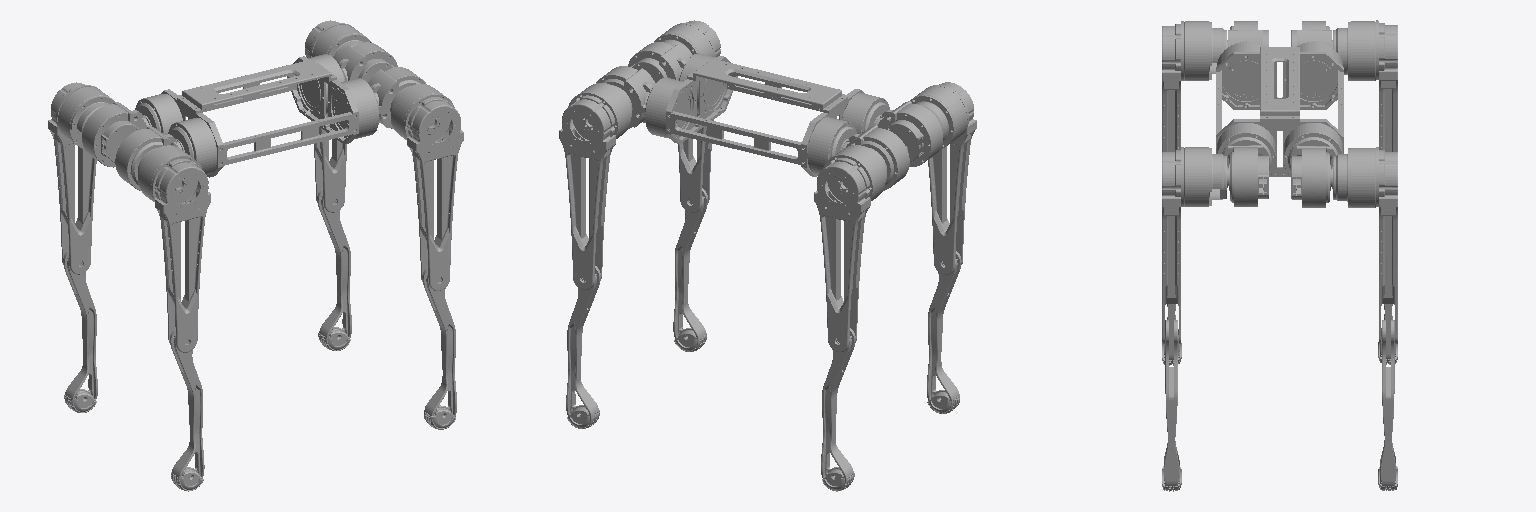
robot.urdf — k3lso_robot:
<?xml version="1.0" ?>
<!-- =================================================================================== -->
<!-- |    This document was autogenerated by xacro from [local-path]/catkin_ws/src/k3lso_robot_description/urdf/k3lso_robot.xacro | -->
<!-- |    EDITING THIS FILE BY HAND IS NOT RECOMMENDED                                 | -->
<!-- =================================================================================== -->
<robot name="k3lso_robot">
  <material name="silver_default">
    <color rgba="0.700 0.700 0.700 1.000"/>
  </material>
  <link name="base_link">
    <inertial>
      <origin rpy="0 0 0" xyz="3.934834505213609e-07 -1.3850611732515126e-07 0.001912983578096638"/>
      <mass value="4.385758280163802"/>
      <inertia ixx="0.020299" ixy="0.0" ixz="-0.0" iyy="0.102942" iyz="0.0" izz="0.116746"/>
    </inertial>
    <visual>
      <origin rpy="0 0 0" xyz="0 0 0"/>
      <geometry>
        <mesh filename="k3lso/base_link.stl" scale="0.001 0.001 0.001"/>
      </geometry>
      <material name="silver_default"/>
    </visual>
    <collision>
      <origin rpy="0 0 0" xyz="0 0 0"/>
      <geometry>
        <mesh filename="k3lso/base_link.stl" scale="0.001 0.001 0.001"/>
      </geometry>
    </collision>
  </link>
  <link name="abduct_fr_1">
    <inertial>
      <origin rpy="0 0 0" xyz="0.05307764856594424 -0.0012595709556703638 0.00018956305199143559"/>
      <mass value="1.0694932881809627"/>
      <inertia ixx="0.000853" ixy="1.1e-05" ixz="1.3e-05" iyy="0.001356" iyz="-1e-06" izz="0.001003"/>
    </inertial>
    <visual>
      <origin rpy="0 0 0" xyz="-0.1845 0.055 0.000895"/>
      <geometry>
        <mesh filename="k3lso/abduct_fr_1.stl" scale="0.001 0.001 0.001"/>
      </geometry>
      <material name="silver_default"/>
    </visual>
    <collision>
      <origin rpy="0 0 0" xyz="-0.1845 0.055 0.000895"/>
      <geometry>
        <mesh filename="k3lso/abduct_fr_1.stl" scale="0.001 0.001 0.001"/>
      </geometry>
    </collision>
  </link>
  <link name="thigh_hr_1">
    <inertial>
      <origin rpy="0 0 0" xyz="-0.0003218004337777469 -0.0596884157685139 -0.030289757148956896"/>
      <mass value="1.4760734131442261"/>
      <inertia ixx="0.008903" ixy="1.8e-05" ixz="-1.2e-05" iyy="0.008754" iyz="-0.001399" izz="0.001753"/>
    </inertial>
    <visual>
      <origin rpy="0 0 0" xyz="-0.24242 0.086937 0.001261"/>
      <geometry>
        <mesh filename="k3lso/thigh_hr_1.stl" scale="0.001 0.001 0.001"/>
      </geometry>
      <material name="silver_default"/>
    </visual>
    <collision>
      <origin rpy="0 0 0" xyz="-0.24242 0.086937 0.001261"/>
      <geometry>
        <mesh filename="k3lso/thigh_hr_1.stl" scale="0.001 0.001 0.001"/>
      </geometry>
    </collision>
  </link>
  <link name="shank_hl_1">
    <inertial>
      <origin rpy="0 0 0" xyz="0.014148114505737414 0.011199912515711286 -0.12186579885685311"/>
      <mass value="0.21899444921238967"/>
      <inertia ixx="0.0016" ixy="0.0" ixz="0.000106" iyy="0.001633" iyz="0.0" izz="4.8e-05"/>
    </inertial>
    <visual>
      <origin rpy="0 0 0" xyz="-0.242534 0.188457 0.281146"/>
      <geometry>
        <mesh filename="k3lso/shank_hl_1.stl" scale="0.001 0.001 0.001"/>
      </geometry>
      <material name="silver_default"/>
    </visual>
    <collision>
      <origin rpy="0 0 0" xyz="-0.242534 0.188457 0.281146"/>
      <geometry>
        <mesh filename="k3lso/shank_hl_1.stl" scale="0.001 0.001 0.001"/>
      </geometry>
    </collision>
  </link>
  <link name="toe_hr_1">
    <inertial>
      <origin rpy="0 0 0" xyz="0.00458667149031633 -0.006500081766649929 0.010312470108147176"/>
      <mass value="0.03759501582149149"/>
      <inertia ixx="6e-06" ixy="0.0" ixz="1e-06" iyy="9e-06" iyz="0.0" izz="9e-06"/>
    </inertial>
    <visual>
      <origin rpy="0 0 0" xyz="-0.244786 0.170757 0.553397"/>
      <geometry>
        <mesh filename="k3lso/toe_hr_1.stl" scale="0.001 0.001 0.001"/>
      </geometry>
      <material name="silver_default"/>
    </visual>
    <collision>
      <origin rpy="0 0 0" xyz="-0.244786 0.170757 0.553397"/>
      <geometry>
        <mesh filename="k3lso/toe_hr_1.stl" scale="0.001 0.001 0.001"/>
      </geometry>
    </collision>
  </link>
  <link name="abduct_fl_1">
    <inertial>
      <origin rpy="0 0 0" xyz="0.05307764856594377 0.0012595709556728688 0.00018956305199150942"/>
      <mass value="1.0694932881809633"/>
      <inertia ixx="0.000853" ixy="-1.1e-05" ixz="1.3e-05" iyy="0.001356" iyz="1e-06" izz="0.001003"/>
    </inertial>
    <visual>
      <origin rpy="0 0 0" xyz="-0.1873 -0.055 0.000895"/>
      <geometry>
        <mesh filename="k3lso/abduct_fl_1.stl" scale="0.001 0.001 0.001"/>
      </geometry>
      <material name="silver_default"/>
    </visual>
    <collision>
      <origin rpy="0 0 0" xyz="-0.1873 -0.055 0.000895"/>
      <geometry>
        <mesh filename="k3lso/abduct_fl_1.stl" scale="0.001 0.001 0.001"/>
      </geometry>
    </collision>
  </link>
  <link name="thigh_hl_1">
    <inertial>
      <origin rpy="0 0 0" xyz="7.97981564236161e-05 0.05967684766881097 -0.029981675456800486"/>
      <mass value="1.4747243572805535"/>
      <inertia ixx="0.00885" ixy="3e-05" ixz="-3e-05" iyy="0.008752" iyz="0.001383" izz="0.001804"/>
    </inertial>
    <visual>
      <origin rpy="0 0 0" xyz="-0.24522 -0.086937 0.001261"/>
      <geometry>
        <mesh filename="k3lso/thigh_hl_1.stl" scale="0.001 0.001 0.001"/>
      </geometry>
      <material name="silver_default"/>
    </visual>
    <collision>
      <origin rpy="0 0 0" xyz="-0.24522 -0.086937 0.001261"/>
      <geometry>
        <mesh filename="k3lso/thigh_hl_1.stl" scale="0.001 0.001 0.001"/>
      </geometry>
    </collision>
  </link>
  <link name="shank_hl_2">
    <inertial>
      <origin rpy="0 0 0" xyz="0.014148091219917308 -0.011199912722097666 -0.12186580739310493"/>
      <mass value="0.21899444921238967"/>
      <inertia ixx="0.0016" ixy="0.0" ixz="0.000106" iyy="0.001633" iyz="0.0" izz="4.8e-05"/>
    </inertial>
    <visual>
      <origin rpy="0 0 0" xyz="-0.244306 -0.188457 0.280011"/>
      <geometry>
        <mesh filename="k3lso/shank_hl_2.stl" scale="0.001 0.001 0.001"/>
      </geometry>
      <material name="silver_default"/>
    </visual>
    <collision>
      <origin rpy="0 0 0" xyz="-0.244306 -0.188457 0.280011"/>
      <geometry>
        <mesh filename="k3lso/shank_hl_2.stl" scale="0.001 0.001 0.001"/>
      </geometry>
    </collision>
  </link>
  <link name="toe_hr_2">
    <inertial>
      <origin rpy="0 0 0" xyz="0.004586648204496224 0.006500092995548129 0.01031246157189547"/>
      <mass value="0.03759501582149149"/>
      <inertia ixx="6e-06" ixy="0.0" ixz="1e-06" iyy="9e-06" iyz="0.0" izz="9e-06"/>
    </inertial>
    <visual>
      <origin rpy="0 0 0" xyz="-0.246558 -0.170757 0.552262"/>
      <geometry>
        <mesh filename="k3lso/toe_hr_2.stl" scale="0.001 0.001 0.001"/>
      </geometry>
      <material name="silver_default"/>
    </visual>
    <collision>
      <origin rpy="0 0 0" xyz="-0.246558 -0.170757 0.552262"/>
      <geometry>
        <mesh filename="k3lso/toe_hr_2.stl" scale="0.001 0.001 0.001"/>
      </geometry>
    </collision>
  </link>
  <link name="abduct_hr_1">
    <inertial>
      <origin rpy="0 0 0" xyz="-0.05307764856594402 -0.0012595709556719806 0.00018956305199565194"/>
      <mass value="1.0694932881809633"/>
      <inertia ixx="0.000853" ixy="-1.1e-05" ixz="-1.3e-05" iyy="0.001356" iyz="-1e-06" izz="0.001003"/>
    </inertial>
    <visual>
      <origin rpy="0 0 0" xyz="0.1873 0.055 0.000895"/>
      <geometry>
        <mesh filename="k3lso/abduct_hr_1.stl" scale="0.001 0.001 0.001"/>
      </geometry>
      <material name="silver_default"/>
    </visual>
    <collision>
      <origin rpy="0 0 0" xyz="0.1873 0.055 0.000895"/>
      <geometry>
        <mesh filename="k3lso/abduct_hr_1.stl" scale="0.001 0.001 0.001"/>
      </geometry>
    </collision>
  </link>
  <link name="thigh_hr_2">
    <inertial>
      <origin rpy="0 0 0" xyz="-0.0003216465512944078 -0.05968841576851537 -0.030289757148952635"/>
      <mass value="1.4760734131442261"/>
      <inertia ixx="0.008903" ixy="1.8e-05" ixz="-1.2e-05" iyy="0.008754" iyz="-0.001399" izz="0.001753"/>
    </inertial>
    <visual>
      <origin rpy="0 0 0" xyz="0.24522 0.086937 0.001261"/>
      <geometry>
        <mesh filename="k3lso/thigh_hr_2.stl" scale="0.001 0.001 0.001"/>
      </geometry>
      <material name="silver_default"/>
    </visual>
    <collision>
      <origin rpy="0 0 0" xyz="0.24522 0.086937 0.001261"/>
      <geometry>
        <mesh filename="k3lso/thigh_hr_2.stl" scale="0.001 0.001 0.001"/>
      </geometry>
    </collision>
  </link>
  <link name="shank_hl_3">
    <inertial>
      <origin rpy="0 0 0" xyz="0.014147268388201378 0.01119991251571023 -0.12186579885684973"/>
      <mass value="0.21899444921238967"/>
      <inertia ixx="0.0016" ixy="0.0" ixz="0.000106" iyy="0.001633" iyz="0.0" izz="4.8e-05"/>
    </inertial>
    <visual>
      <origin rpy="0 0 0" xyz="0.245105 0.188457 0.281146"/>
      <geometry>
        <mesh filename="k3lso/shank_hl_3.stl" scale="0.001 0.001 0.001"/>
      </geometry>
      <material name="silver_default"/>
    </visual>
    <collision>
      <origin rpy="0 0 0" xyz="0.245105 0.188457 0.281146"/>
      <geometry>
        <mesh filename="k3lso/shank_hl_3.stl" scale="0.001 0.001 0.001"/>
      </geometry>
    </collision>
  </link>
  <link name="toe_hr_3">
    <inertial>
      <origin rpy="0 0 0" xyz="0.004586825372773412 -0.006500081766651011 0.010312470108151173"/>
      <mass value="0.03759501582149149"/>
      <inertia ixx="6e-06" ixy="0.0" ixz="1e-06" iyy="9e-06" iyz="0.0" izz="9e-06"/>
    </inertial>
    <visual>
      <origin rpy="0 0 0" xyz="0.242854 0.170757 0.553397"/>
      <geometry>
        <mesh filename="k3lso/toe_hr_3.stl" scale="0.001 0.001 0.001"/>
      </geometry>
      <material name="silver_default"/>
    </visual>
    <collision>
      <origin rpy="0 0 0" xyz="0.242854 0.170757 0.553397"/>
      <geometry>
        <mesh filename="k3lso/toe_hr_3.stl" scale="0.001 0.001 0.001"/>
      </geometry>
    </collision>
  </link>
  <link name="abduct_hl_1">
    <inertial>
      <origin rpy="0 0 0" xyz="-0.05307764856594449 0.0012595709556712173 0.00018956305199570355"/>
      <mass value="1.0694932881809625"/>
      <inertia ixx="0.000853" ixy="1.1e-05" ixz="-1.3e-05" iyy="0.001356" iyz="1e-06" izz="0.001003"/>
    </inertial>
    <visual>
      <origin rpy="0 0 0" xyz="0.1873 -0.055 0.000895"/>
      <geometry>
        <mesh filename="k3lso/abduct_hl_1.stl" scale="0.001 0.001 0.001"/>
      </geometry>
      <material name="silver_default"/>
    </visual>
    <collision>
      <origin rpy="0 0 0" xyz="0.1873 -0.055 0.000895"/>
      <geometry>
        <mesh filename="k3lso/abduct_hl_1.stl" scale="0.001 0.001 0.001"/>
      </geometry>
    </collision>
  </link>
  <link name="thigh_hl_2">
    <inertial>
      <origin rpy="0 0 0" xyz="7.995203890673319e-05 0.05967684766880969 -0.029981675456796107"/>
      <mass value="1.4747243572805535"/>
      <inertia ixx="0.00885" ixy="3e-05" ixz="-3e-05" iyy="0.008752" iyz="0.001383" izz="0.001804"/>
    </inertial>
    <visual>
      <origin rpy="0 0 0" xyz="0.24522 -0.086937 0.001261"/>
      <geometry>
        <mesh filename="k3lso/thigh_hl_2.stl" scale="0.001 0.001 0.001"/>
      </geometry>
      <material name="silver_default"/>
    </visual>
    <collision>
      <origin rpy="0 0 0" xyz="0.24522 -0.086937 0.001261"/>
      <geometry>
        <mesh filename="k3lso/thigh_hl_2.stl" scale="0.001 0.001 0.001"/>
      </geometry>
    </collision>
  </link>
  <link name="shank_hl_4">
    <inertial>
      <origin rpy="0 0 0" xyz="0.014147245102381162 -0.011199912722098415 -0.12186580739310016"/>
      <mass value="0.21899444921238967"/>
      <inertia ixx="0.0016" ixy="0.0" ixz="0.000106" iyy="0.001633" iyz="0.0" izz="4.8e-05"/>
    </inertial>
    <visual>
      <origin rpy="0 0 0" xyz="0.246133 -0.188457 0.280011"/>
      <geometry>
        <mesh filename="k3lso/shank_hl_4.stl" scale="0.001 0.001 0.001"/>
      </geometry>
      <material name="silver_default"/>
    </visual>
    <collision>
      <origin rpy="0 0 0" xyz="0.246133 -0.188457 0.280011"/>
      <geometry>
        <mesh filename="k3lso/shank_hl_4.stl" scale="0.001 0.001 0.001"/>
      </geometry>
    </collision>
  </link>
  <link name="toe_hr_4">
    <inertial>
      <origin rpy="0 0 0" xyz="0.00458680208695289 0.006500092995547518 0.010312461571901133"/>
      <mass value="0.03759501582149149"/>
      <inertia ixx="6e-06" ixy="0.0" ixz="1e-06" iyy="9e-06" iyz="0.0" izz="9e-06"/>
    </inertial>
    <visual>
      <origin rpy="0 0 0" xyz="0.243882 -0.170757 0.552262"/>
      <geometry>
        <mesh filename="k3lso/toe_hr_4.stl" scale="0.001 0.001 0.001"/>
      </geometry>
      <material name="silver_default"/>
    </visual>
    <collision>
      <origin rpy="0 0 0" xyz="0.243882 -0.170757 0.552262"/>
      <geometry>
        <mesh filename="k3lso/toe_hr_4.stl" scale="0.001 0.001 0.001"/>
      </geometry>
    </collision>
  </link>
  <joint name="torso_to_abduct_fr_j" type="continuous">
    <origin rpy="0 0 0" xyz="0.1845 -0.055 -0.000895"/>
    <parent link="base_link"/>
    <child link="abduct_fr_1"/>
    <axis xyz="1.0 0.0 -0.0"/>
  </joint>
  <joint name="abduct_fr_to_thigh_fr_j" type="continuous">
    <origin rpy="0 0 0" xyz="0.05792 -0.031937 -0.000366"/>
    <parent link="abduct_fr_1"/>
    <child link="thigh_hr_1"/>
    <axis xyz="-0.0 1.0 -0.0"/>
  </joint>
  <joint name="thigh_fr_to_knee_fr_j" type="continuous">
    <origin rpy="0 0 0" xyz="0.000114 -0.10152 -0.279885"/>
    <parent link="thigh_hr_1"/>
    <child link="shank_hl_1"/>
    <axis xyz="-0.0 1.0 0.0"/>
  </joint>
  <joint name="toe_fr_joint" type="fixed">
    <origin rpy="0 0 0" xyz="0.002252 0.0177 -0.272251"/>
    <parent link="shank_hl_1"/>
    <child link="toe_hr_1"/>
  </joint>
  <joint name="torso_to_abduct_fl_j" type="continuous">
    <origin rpy="0 0 0" xyz="0.1873 0.055 -0.000895"/>
    <parent link="base_link"/>
    <child link="abduct_fl_1"/>
    <axis xyz="-1.0 -0.0 0.0"/>
  </joint>
  <joint name="abduct_fl_to_thigh_fl_j" type="continuous">
    <origin rpy="0 0 0" xyz="0.05792 0.031937 -0.000366"/>
    <parent link="abduct_fl_1"/>
    <child link="thigh_hl_1"/>
    <axis xyz="0.0 1.0 0.0"/>
  </joint>
  <joint name="thigh_fl_to_knee_fl_j" type="continuous">
    <origin rpy="0 0 0" xyz="-0.000914 0.10152 -0.27875"/>
    <parent link="thigh_hl_1"/>
    <child link="shank_hl_2"/>
    <axis xyz="-0.0 -1.0 -0.0"/>
  </joint>
  <joint name="toe_fl_joint" type="fixed">
    <origin rpy="0 0 0" xyz="0.002252 -0.0177 -0.272251"/>
    <parent link="shank_hl_2"/>
    <child link="toe_hr_2"/>
  </joint>
  <joint name="torso_to_abduct_hr_j" type="continuous">
    <origin rpy="0 0 0" xyz="-0.1873 -0.055 -0.000895"/>
    <parent link="base_link"/>
    <child link="abduct_hr_1"/>
    <axis xyz="1.0 0.0 -0.0"/>
  </joint>
  <joint name="abduct_hr_to_thigh_hr_j" type="continuous">
    <origin rpy="0 0 0" xyz="-0.05792 -0.031937 -0.000366"/>
    <parent link="abduct_hr_1"/>
    <child link="thigh_hr_2"/>
    <axis xyz="-0.0 -1.0 0.0"/>
  </joint>
  <joint name="thigh_hr_to_knee_hr_j" type="continuous">
    <origin rpy="0 0 0" xyz="0.000115 -0.10152 -0.279885"/>
    <parent link="thigh_hr_2"/>
    <child link="shank_hl_3"/>
    <axis xyz="-0.0 1.0 0.0"/>
  </joint>
  <joint name="toe_hr_joint" type="fixed">
    <origin rpy="0 0 0" xyz="0.002251 0.0177 -0.272251"/>
    <parent link="shank_hl_3"/>
    <child link="toe_hr_3"/>
  </joint>
  <joint name="torso_to_abduct_hl_j" type="continuous">
    <origin rpy="0 0 0" xyz="-0.1873 0.055 -0.000895"/>
    <parent link="base_link"/>
    <child link="abduct_hl_1"/>
    <axis xyz="-1.0 -0.0 0.0"/>
  </joint>
  <joint name="abduct_hl_to_thigh_hl_j" type="continuous">
    <origin rpy="0 0 0" xyz="-0.05792 0.031937 -0.000366"/>
    <parent link="abduct_hl_1"/>
    <child link="thigh_hl_2"/>
    <axis xyz="0.0 -1.0 -0.0"/>
  </joint>
  <joint name="thigh_hl_to_knee_hl_j" type="continuous">
    <origin rpy="0 0 0" xyz="-0.000913 0.10152 -0.27875"/>
    <parent link="thigh_hl_2"/>
    <child link="shank_hl_4"/>
    <axis xyz="-0.0 -1.0 -0.0"/>
  </joint>
  <joint name="toe_hl_joint" type="fixed">
    <origin rpy="0 0 0" xyz="0.002251 -0.0177 -0.272251"/>
    <parent link="shank_hl_4"/>
    <child link="toe_hr_4"/>
  </joint>
</robot>

--- What the picture shows (computed from the rendered views, not written in the file) ---
The picture shows the robot from 3 angles, left to right: view 1: azimuth 30°, elevation 25°; view 2: azimuth 150°, elevation 25°; view 3: azimuth 270°, elevation 25°; orthographic projection.
Model k3lso_robot with 17 links and 16 joints (12 continuous, 4 fixed), rooted at base_link, posed all joints at 0.
Visible links, largest first — view 1: base_link, thigh_hr_1, thigh_hr_2, thigh_hl_2, thigh_hl_1, abduct_hl_1, shank_hl_2, shank_hl_4, shank_hl_1, shank_hl_3, abduct_hr_1, abduct_fl_1 (+1 smaller); view 2: base_link, thigh_hl_1, thigh_hl_2, thigh_hr_2, thigh_hr_1, abduct_hr_1, shank_hl_2, shank_hl_1, shank_hl_4, shank_hl_3, abduct_hl_1, abduct_fr_1 (+1 smaller); view 3: base_link, thigh_hl_1, thigh_hr_1, thigh_hl_2, thigh_hr_2, abduct_fl_1, abduct_fr_1, shank_hl_1, shank_hl_2, abduct_hr_1, abduct_hl_1.
Boxes of the visible links, box(x1,y1,x2,y2) form: base_link: box(135, 54, 378, 177); thigh_hr_1: box(390, 84, 463, 290); thigh_hr_2: box(138, 145, 210, 352); thigh_hl_2: box(48, 82, 114, 274); thigh_hl_1: box(305, 20, 371, 212); abduct_hl_1: box(82, 102, 149, 167); shank_hl_2: box(317, 188, 351, 336); shank_hl_4: box(63, 250, 97, 398); shank_hl_1: box(422, 267, 456, 414); shank_hl_3: box(170, 328, 204, 476); abduct_hr_1: box(115, 126, 181, 190); abduct_fl_1: box(336, 42, 397, 82); base_link: box(645, 53, 889, 176); thigh_hl_1: box(559, 83, 632, 289); thigh_hl_2: box(814, 145, 886, 351); thigh_hr_2: box(910, 82, 976, 274); thigh_hr_1: box(654, 20, 720, 212); abduct_hr_1: box(876, 101, 942, 166); shank_hl_2: box(566, 266, 600, 414); shank_hl_1: box(673, 188, 707, 337); shank_hl_4: box(821, 328, 855, 476); shank_hl_3: box(927, 251, 961, 399); abduct_hl_1: box(842, 125, 909, 190); abduct_fr_1: box(628, 42, 689, 82); base_link: box(1216, 42, 1343, 176); thigh_hl_1: box(1332, 147, 1397, 343); thigh_hr_1: box(1162, 147, 1227, 343); thigh_hl_2: box(1332, 20, 1397, 151); thigh_hr_2: box(1162, 21, 1227, 151); abduct_fl_1: box(1291, 146, 1331, 207); abduct_fr_1: box(1228, 145, 1268, 206); shank_hl_1: box(1164, 320, 1179, 483); shank_hl_2: box(1380, 320, 1395, 483); abduct_hr_1: box(1228, 21, 1268, 46); abduct_hl_1: box(1291, 21, 1331, 46).
Bounding box of the posed robot: 0.5892 × 0.3869 × 0.6252 m (x, y, z).
17 mesh visuals loaded from 17 distinct referenced files (17 binary STL).
